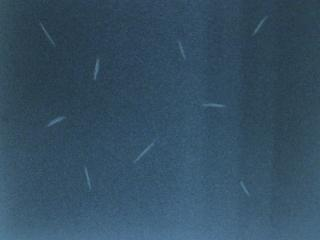scratch: (37, 20, 57, 47), (134, 140, 157, 163), (252, 15, 268, 36), (46, 115, 67, 128), (92, 57, 101, 81), (239, 180, 251, 198), (83, 167, 92, 191), (176, 40, 186, 61), (202, 102, 226, 109), (83, 164, 90, 174)
